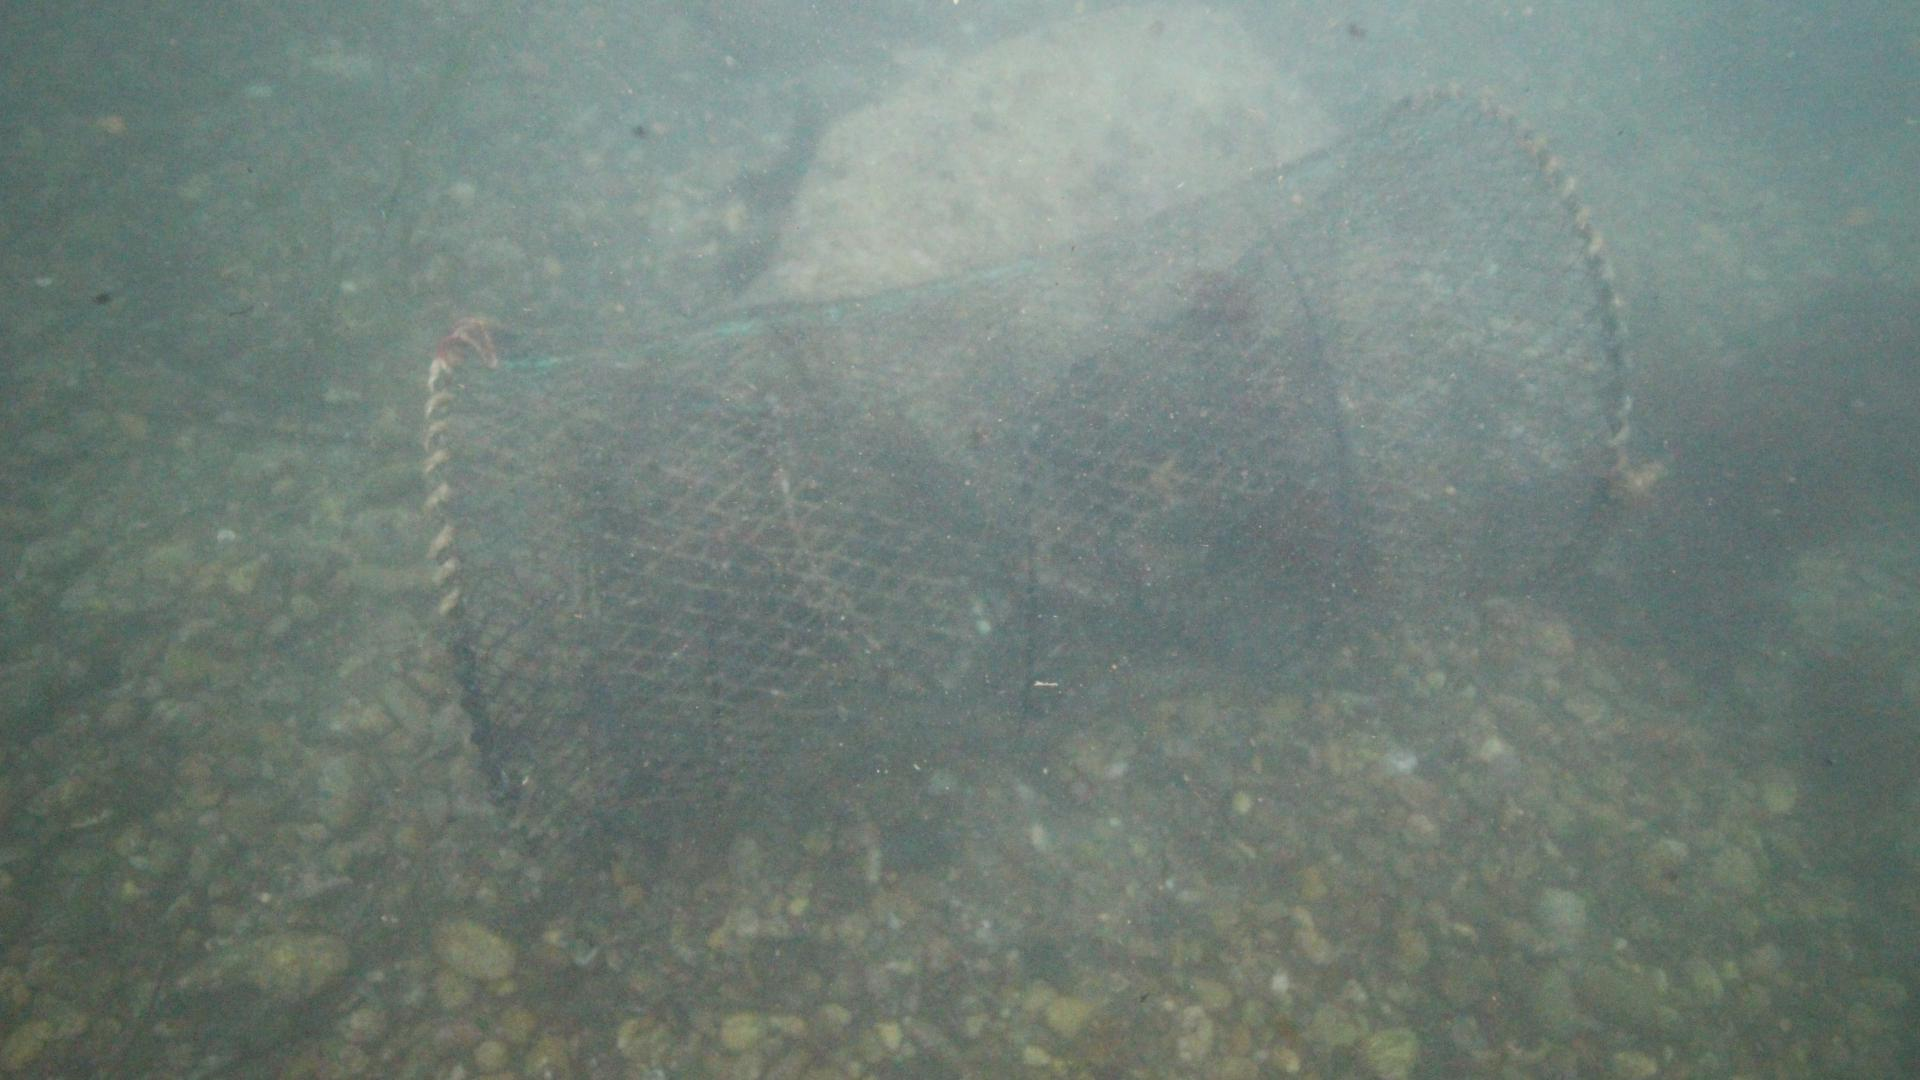spring fish trap: (419, 82, 1634, 861)
